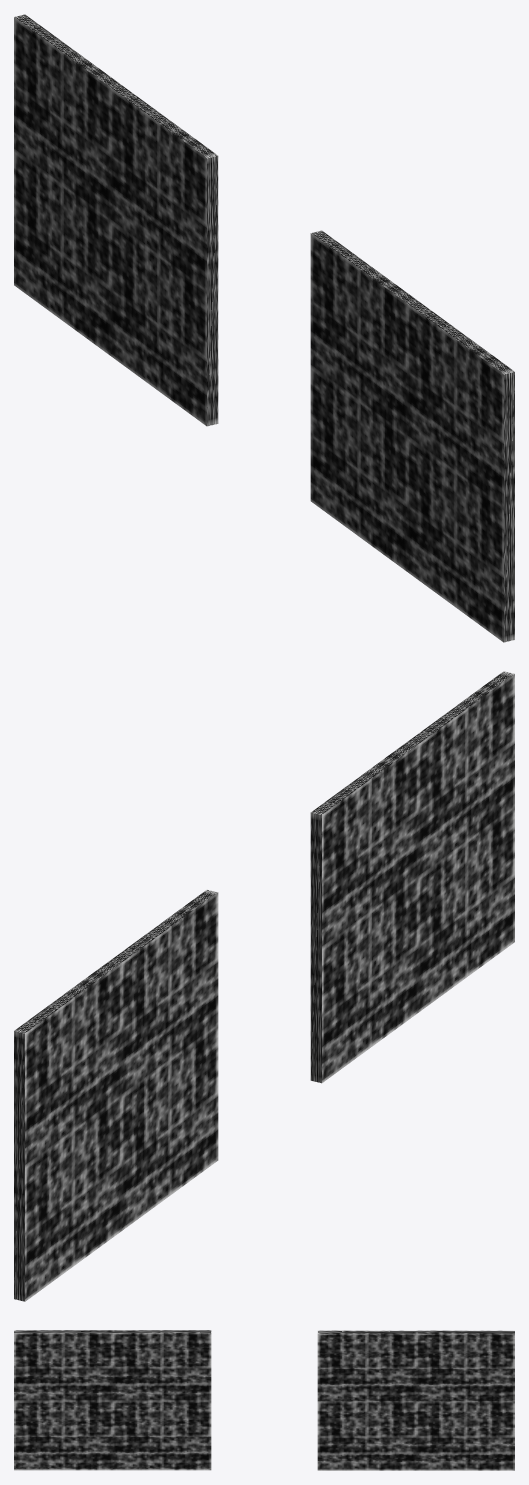
The model's file is Area3.fbx.
The picture shows the model from 3 angles, top to bottom: view 1: azimuth 30°, elevation 25°; view 2: azimuth 150°, elevation 25°; view 3: azimuth 270°, elevation 25°; orthographic projection. The views are drawn at different scales.
Parts seen in each view (by area): view 1: Cube__1_, Cube__2_; view 2: Cube__1_, Cube__2_; view 3: Cube__1_, Cube__2_.
Boxes of the visible parts, box(x1,y1,x2,y2) form: Cube__1_: box(310, 230, 514, 642); Cube__2_: box(14, 14, 218, 426); Cube__1_: box(310, 671, 514, 1083); Cube__2_: box(14, 889, 218, 1301); Cube__1_: box(14, 1330, 211, 1470); Cube__2_: box(317, 1330, 514, 1470).
Bounding box in the file's own units: 100 × 2310 × 7613.
